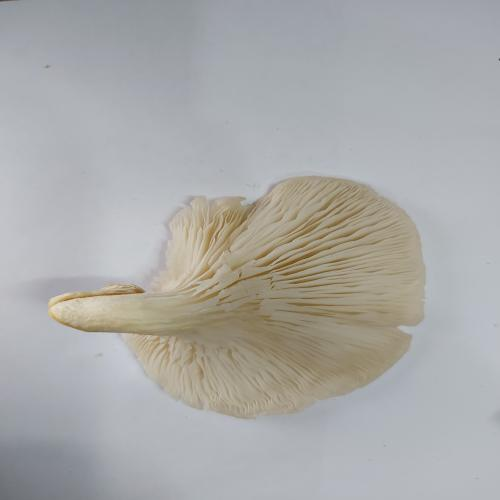Oyster Mushroom: (47, 175, 427, 420)
